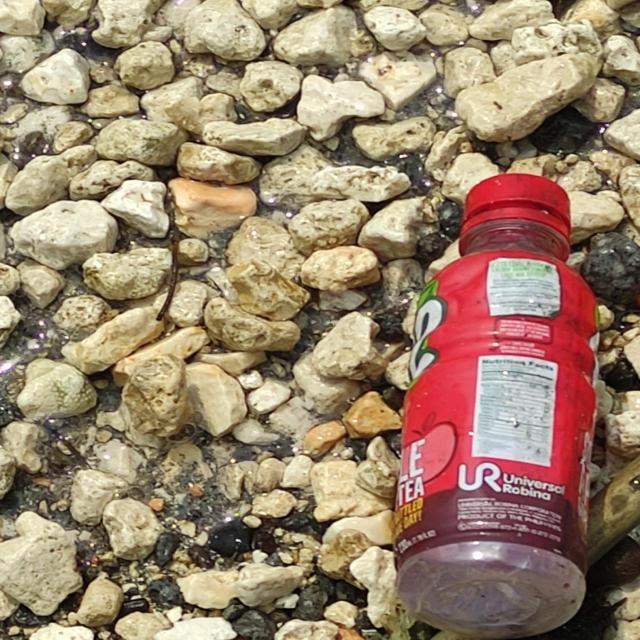plastic_waste: (398, 175, 604, 637)
